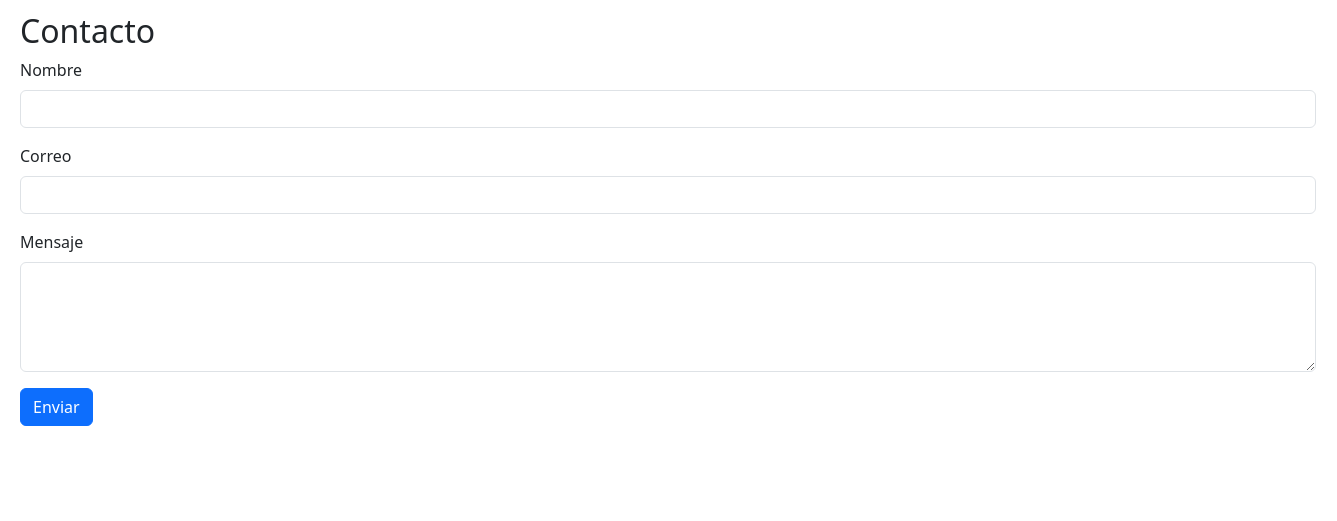
Scenario: Contact Component › envío válido muestra mensaje de éxito
Type "Ada Lovelace" into the field labelled "Nombre".
click(668, 109); type("Ada Lovelace")  # box [20, 90, 1316, 128]
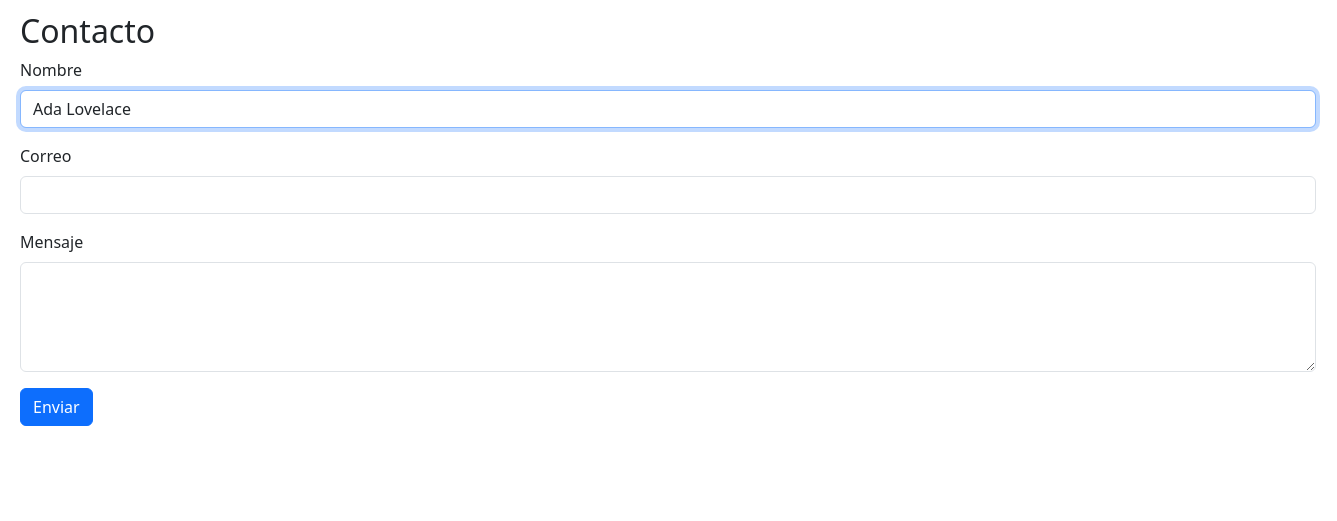
Type "ada@example.com" into the field labelled "Correo".
click(668, 195); type("ada@example.com")  # box [20, 176, 1316, 214]
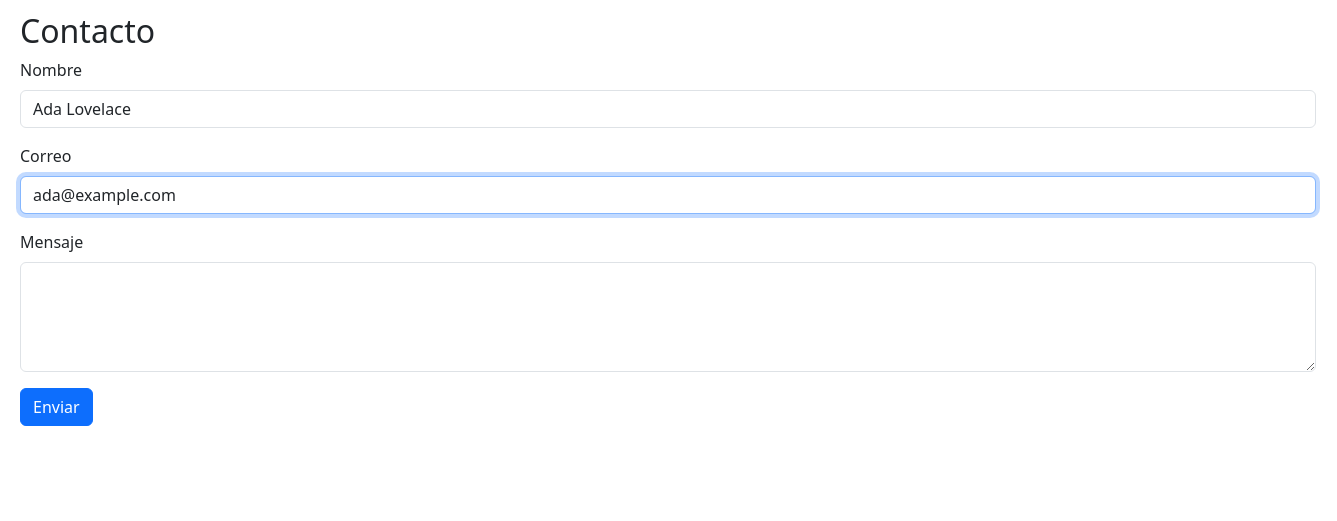
Type "Hola" into the text box labelled "Mensaje".
click(668, 317); type("Hola")  # box [20, 262, 1316, 372]
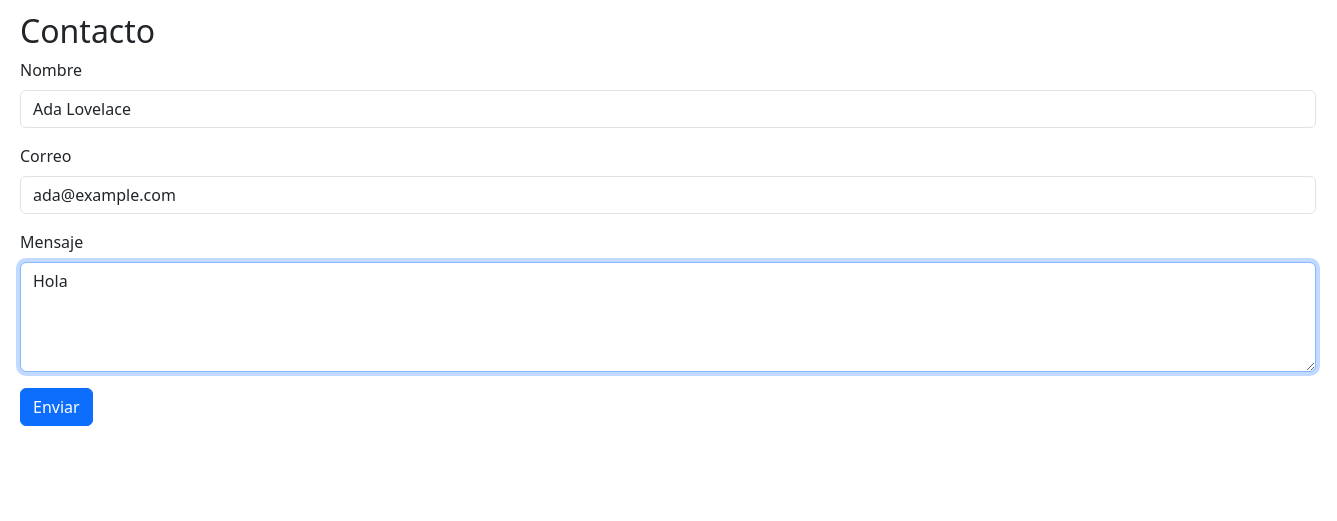
Click the button "Enviar".
click(56, 407)  # box [20, 388, 93, 426]
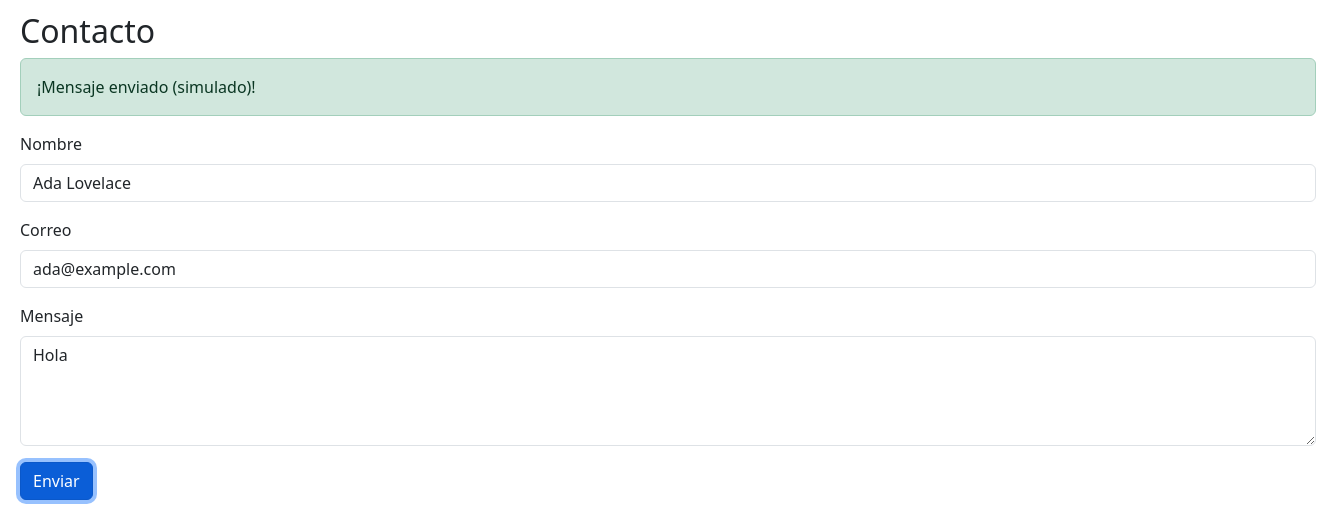
Expected: the text "¡Mensaje enviado (simulado)!" is shown, [20, 58, 1316, 116]
